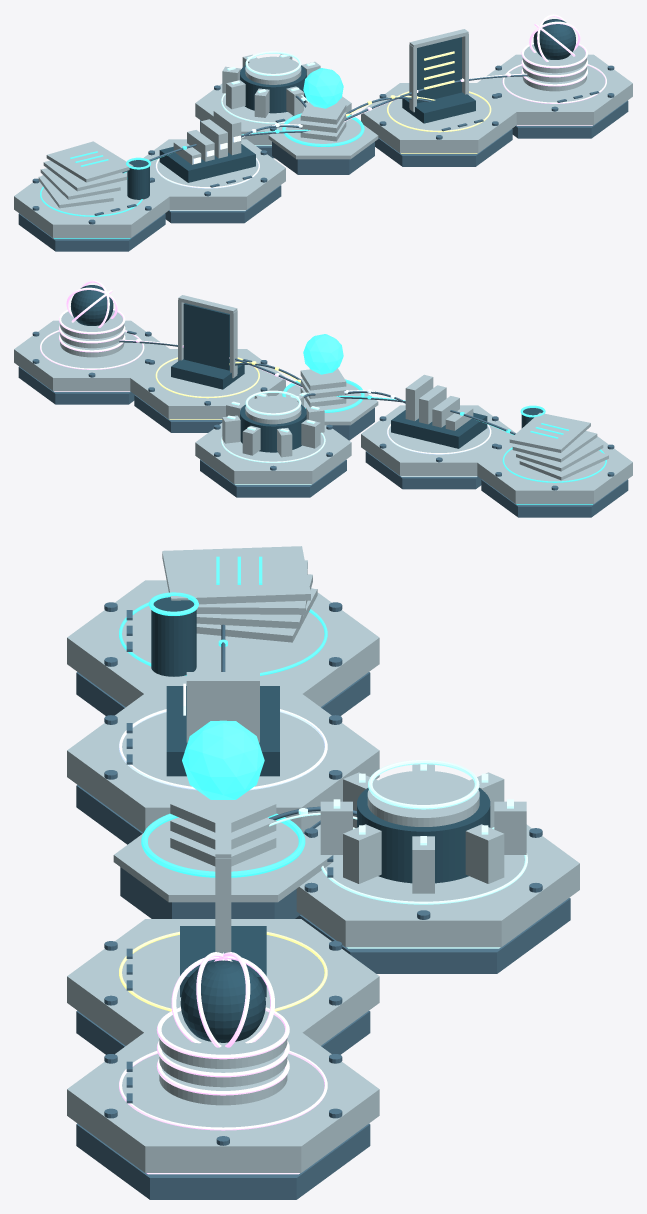
The model's file is journey.glb.
3 views of the same model, one above another, from view 1: azimuth 30°, elevation 25°; view 2: azimuth 150°, elevation 25°; view 3: azimuth 270°, elevation 25° (orthographic). The views are drawn at different scales.
Visible parts, largest first — view 1: Island_3.002, Island_4.002, Island_0.002, Island_1.002, Project deck, Outcome surface, Island_0, Island_2.002, Source document.003, Plan console, Island_3, Project foundation (+32 smaller); view 2: Island_4.002, Island_3.002, Island_0.002, Island_2.002, Island_1.002, Outcome surface, Island_0, Source document.003, Island_2, Plan console, Island_1, Island_4 (+31 smaller); view 3: Island_4.002, Island_3.002, Island_2.002, Island_1.002, Island_0.002, Project deck, Source document.003, Island_4, Island_2, Project reference, Sphere, Work hub (+33 smaller).
Part boxes in pixels (bbox=[...]): Island_3.002: bbox=[361, 83, 516, 153]; Island_4.002: bbox=[477, 54, 632, 125]; Island_0.002: bbox=[14, 172, 169, 237]; Island_1.002: bbox=[141, 139, 285, 209]; Project deck: bbox=[268, 117, 378, 159]; Outcome surface: bbox=[417, 37, 461, 103]; Island_0: bbox=[18, 213, 165, 251]; Island_2.002: bbox=[195, 83, 351, 144]; Source document.003: bbox=[46, 141, 133, 182]; Plan console: bbox=[159, 144, 255, 182]; Island_3: bbox=[375, 129, 512, 166]; Project foundation: bbox=[272, 142, 374, 174]; Island_4.002: bbox=[14, 320, 169, 391]; Island_3.002: bbox=[130, 349, 285, 419]; Island_0.002: bbox=[477, 436, 632, 503]; Island_2.002: bbox=[195, 423, 351, 484]; Island_1.002: bbox=[361, 405, 516, 475]; Outcome surface: bbox=[183, 303, 229, 370]; Island_0: bbox=[481, 479, 628, 517]; Source document.003: bbox=[509, 412, 590, 452]; Island_2: bbox=[200, 459, 346, 497]; Plan console: bbox=[391, 410, 487, 448]; Island_1: bbox=[365, 451, 481, 489]; Island_4: bbox=[18, 366, 134, 404]; Island_4.002: bbox=[67, 1032, 379, 1172]; Island_3.002: bbox=[67, 919, 379, 1045]; Island_2.002: bbox=[296, 824, 579, 947]; Island_1.002: bbox=[67, 693, 379, 832]; Island_0.002: bbox=[67, 580, 379, 707]; Project deck: bbox=[113, 818, 332, 902]; Source document.003: bbox=[162, 546, 310, 604]; Island_4: bbox=[76, 1123, 370, 1199]; Island_2: bbox=[295, 898, 570, 973]; Project reference: bbox=[182, 721, 264, 799]; Sphere: bbox=[180, 960, 265, 1042]; Work hub: bbox=[357, 788, 490, 883].
Bounding box in the file's own units: 10.04 × 1.7 × 3.84.
